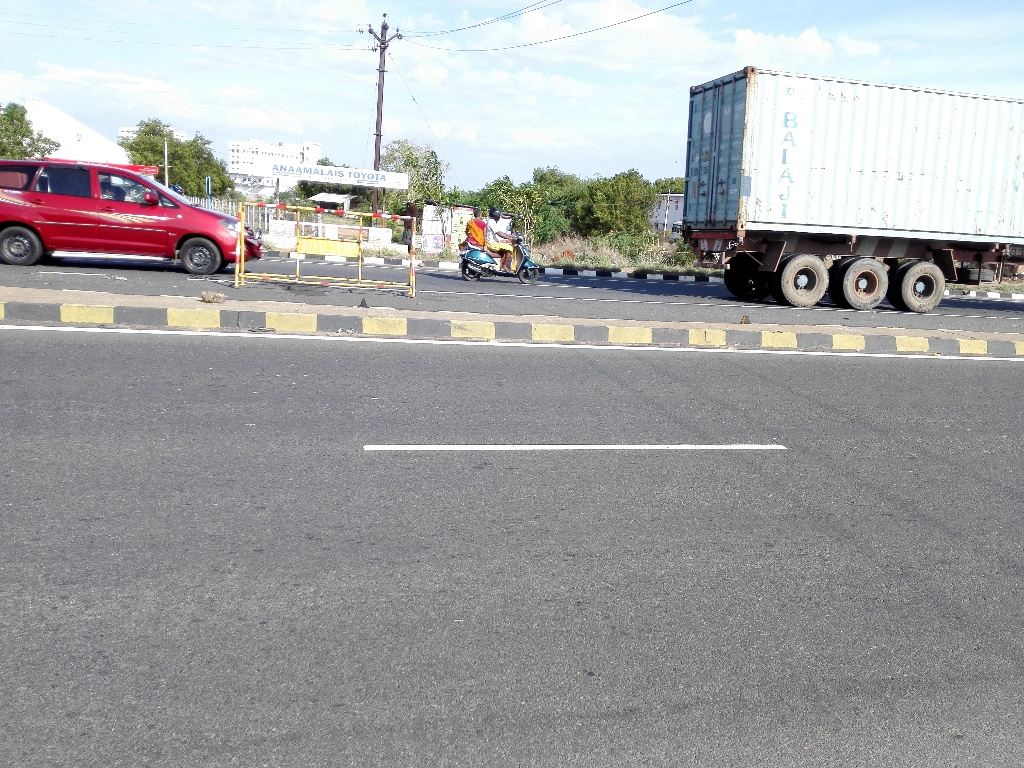biker: (449, 168, 552, 290)
helmet: (484, 196, 507, 225)
nohelmet: (469, 202, 489, 225)
